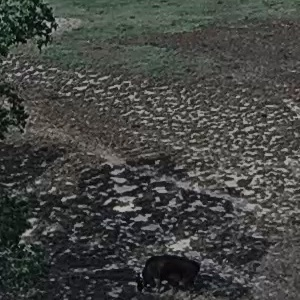cow: (134, 242, 210, 295)
